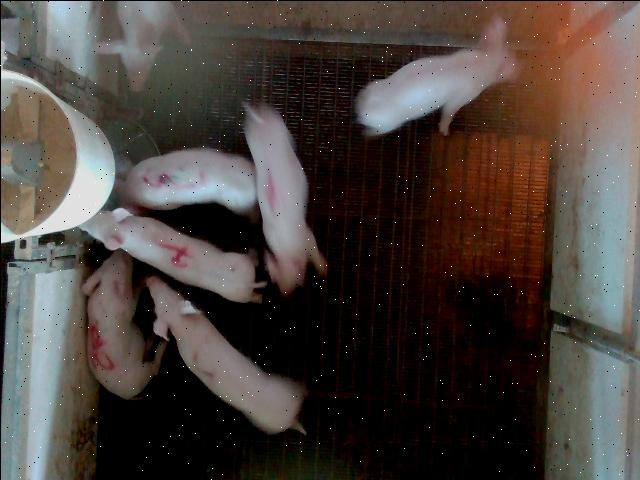pig-1: (244, 103, 326, 295)
pig-2: (146, 276, 305, 432)
pig-3: (119, 148, 255, 214)
pig-4: (79, 208, 265, 301)
pig-5: (81, 249, 166, 399)
